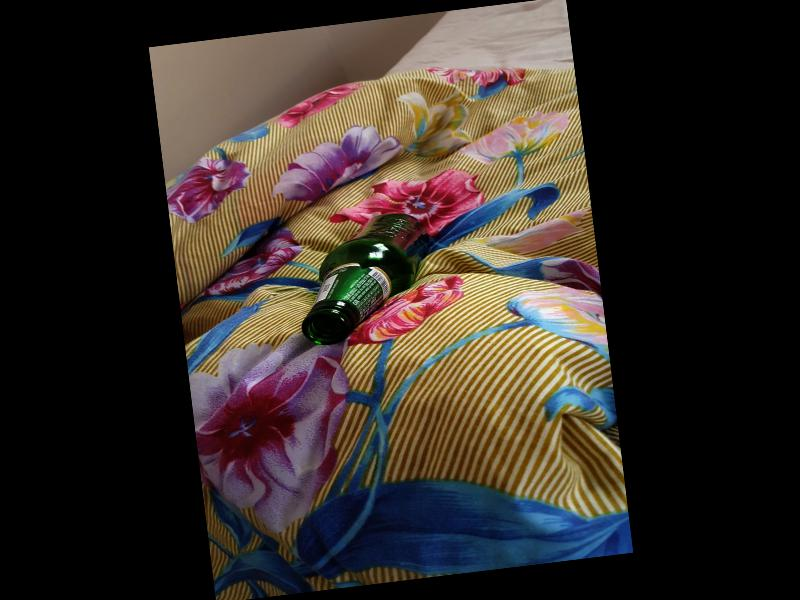Beer: (287, 209, 440, 349)
